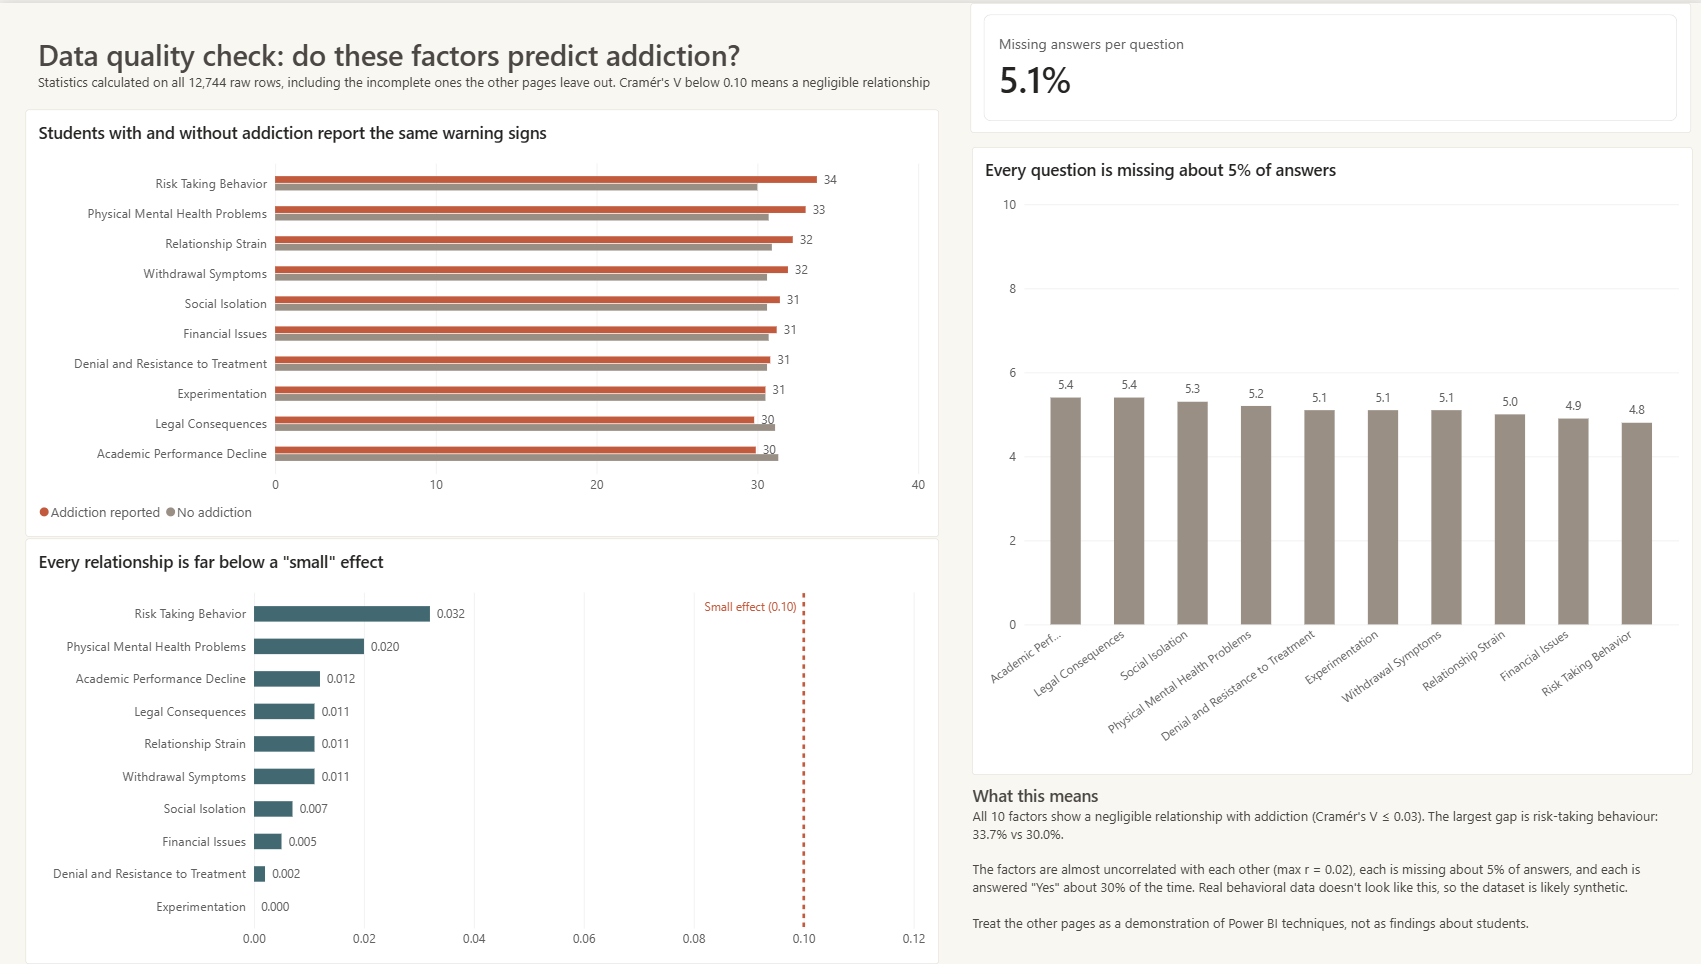

The page's visual inventory and layout, read from the dashboard file:
{"tool":"powerbi","page":{"name":"Data Quality","canvas":[1920,1080],"ordinal":3},"visuals":[{"type":"textbox","title":"Header – Title","box":[31.5,24.1,1061.1,96.3],"z":0},{"type":"clusteredBarChart","title":"Students with and without addiction report the same warning signs","fields":{"Category":["data_quality_stats.Factor"],"Y":["Sum(data_quality_stats.Yes_Pct_Addiction)","Sum(data_quality_stats.Yes_Pct_No_Addiction)"]},"box":[31.5,120.4,1025.9,480],"z":1000},{"type":"clusteredBarChart","title":"Every relationship is far below a \"small\" effect","fields":{"Category":["data_quality_stats.Factor"],"Y":["Sum(data_quality_stats.Cramers_V)"]},"box":[31.5,601.9,1025.9,477.8],"z":2000},{"type":"clusteredColumnChart","title":"Every question is missing about 5% of answers","fields":{"Category":["data_quality_stats.Factor"],"Y":["Sum(data_quality_stats.Missing_Pct)"]},"box":[1094.4,161.1,809.3,705.6],"z":3000},{"type":"cardVisual","title":"Card – Missing Answers","fields":{"Data":["student_addiction_dataset_test.Avg Missing % per Question"]},"box":[1092.6,0,809.3,146.3],"z":4000},{"type":"textbox","title":"Conclusion – What this means","box":[1081.5,866.7,820.4,196.3],"z":5000}]}

Visuals, with their boxes in screenshot pixels (x1, y1, x2, y2), scaled from the page's 1920x1080 canvas onto the 1701x964 screenshot:
"Header – Title" textbox: 28 22 968 107
"Students with and without addiction report the same warning signs" clusteredBarChart: 28 107 937 536
"Every relationship is far below a "small" effect" clusteredBarChart: 28 537 937 963
"Every question is missing about 5% of answers" clusteredColumnChart: 970 144 1687 774
"Card – Missing Answers" cardVisual: 968 0 1685 131
"Conclusion – What this means" textbox: 958 774 1685 949
